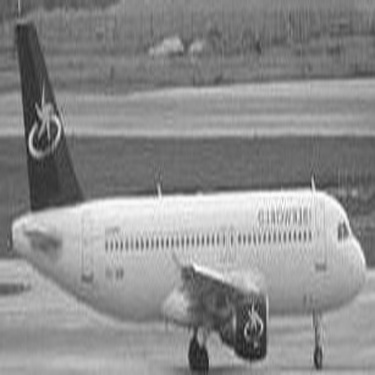airplane: (7, 7, 367, 367)
